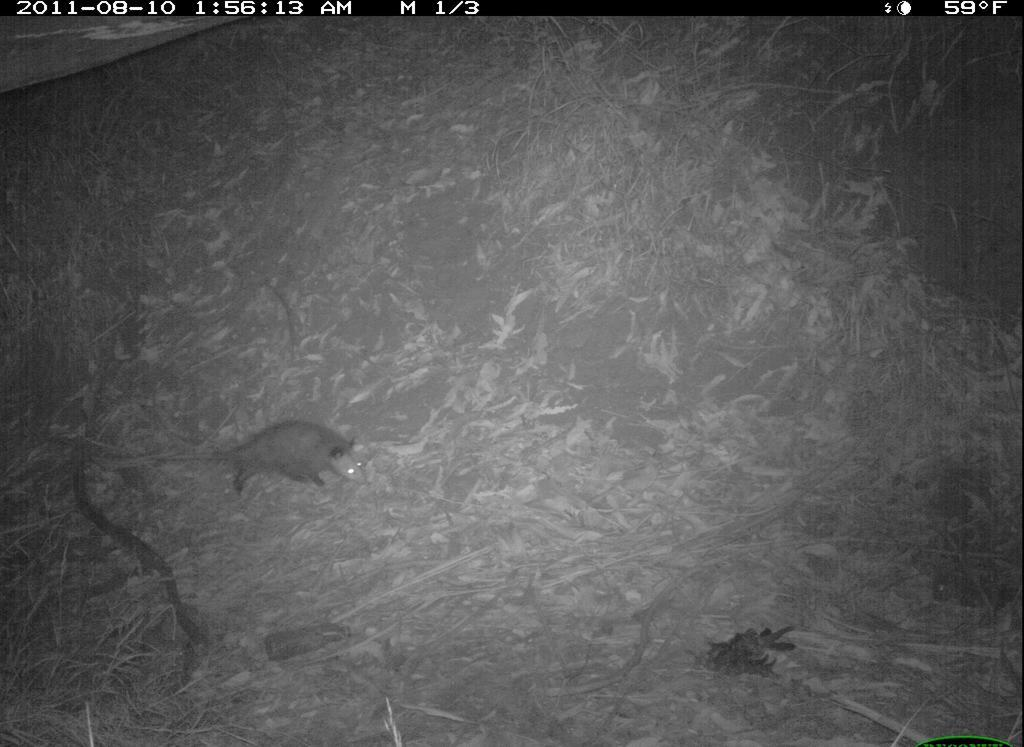opossum: (143, 418, 372, 504)
